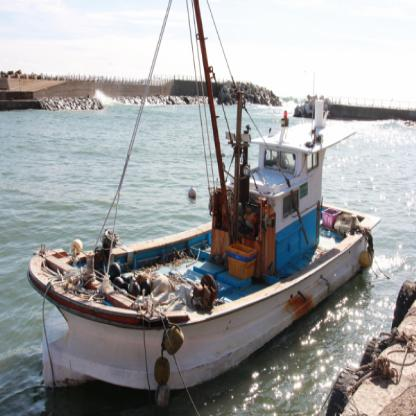fish-b: (24, 60, 384, 402)
